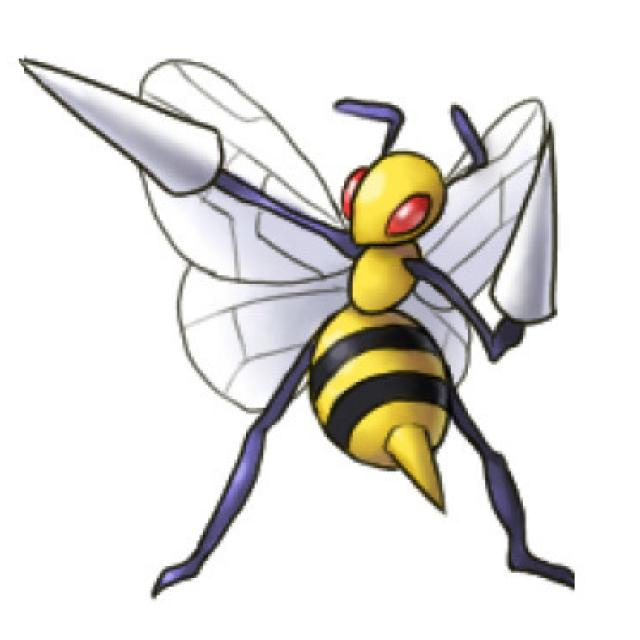Beedrill: (139, 84, 558, 576)
